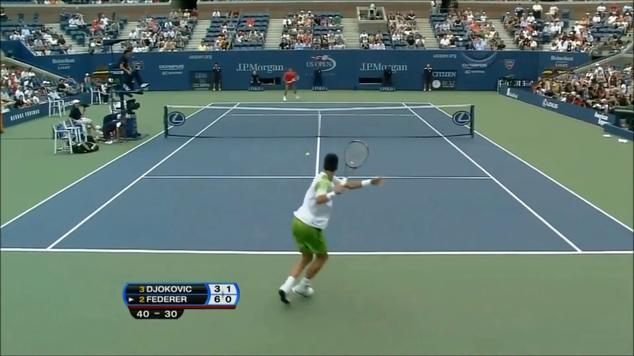down: (57, 15, 99, 47)
hands_up: (278, 174, 351, 287)
sit: (509, 18, 551, 48), (98, 111, 129, 145), (541, 10, 573, 38)
stay: (122, 58, 144, 91)
walk: (278, 174, 351, 287)
